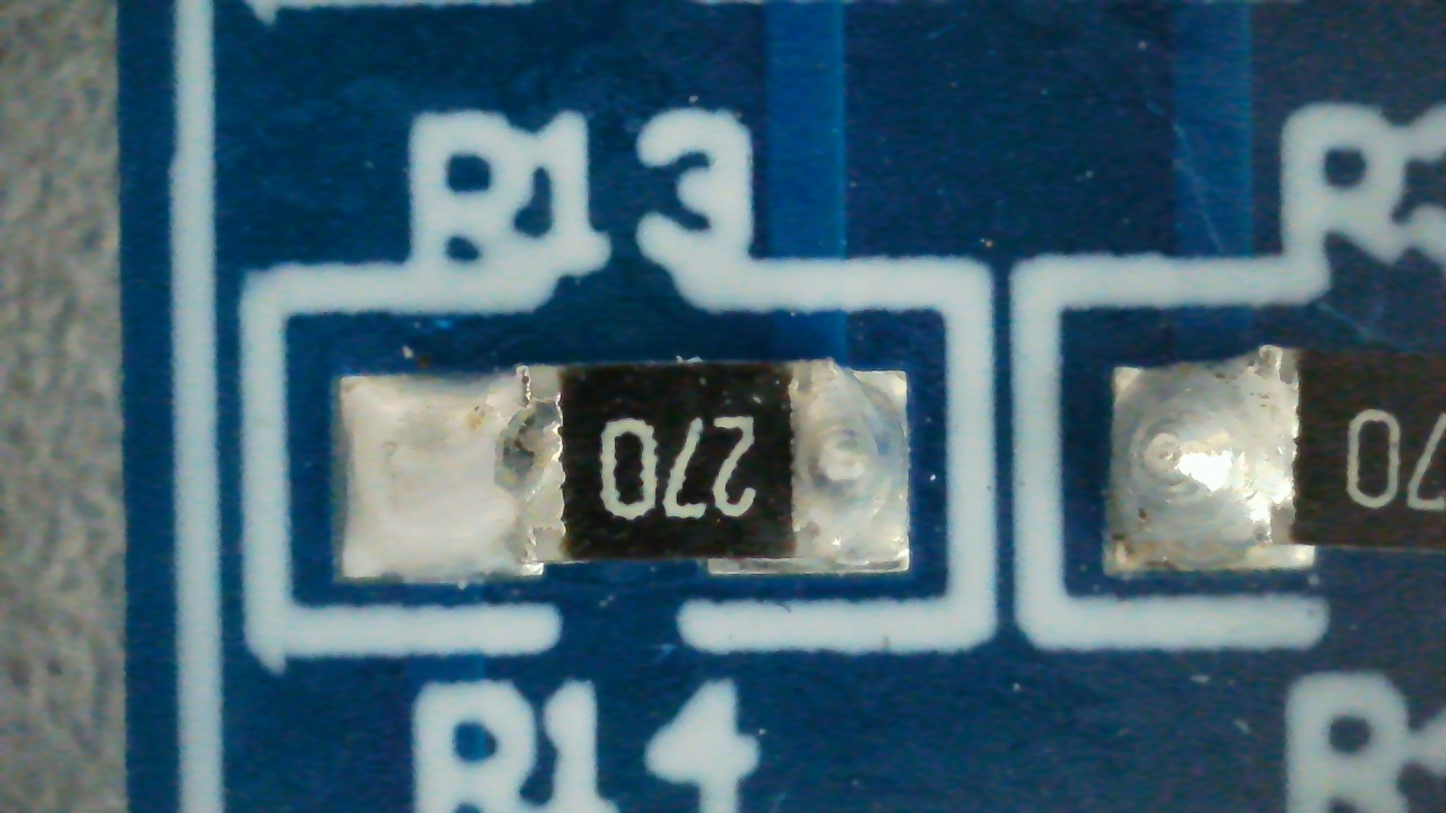OK: (342, 365, 908, 582)
